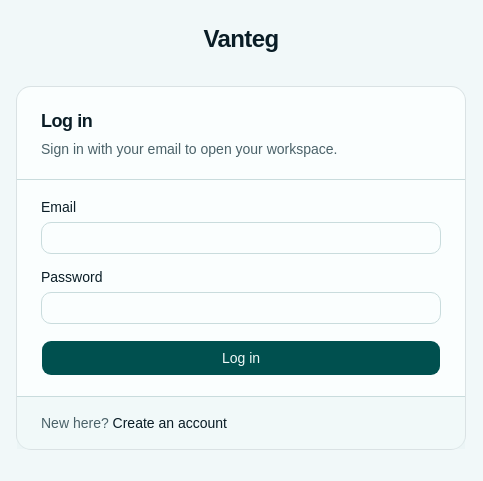
LoginPage › validates basic email shape
Type "nope" into the field labelled "Email".
click(241, 238); type("nope")  # box 41,222 -> 441,254
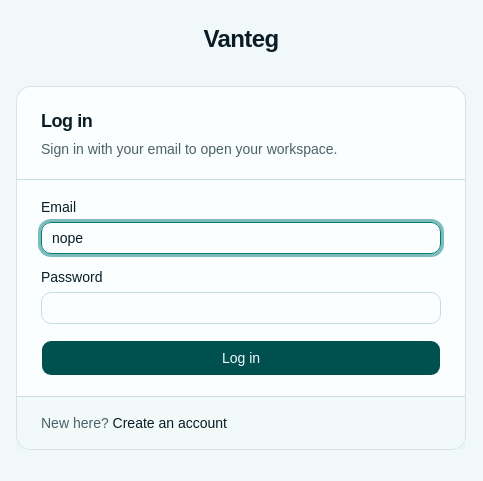
Type "secret" into the field labelled "Password".
click(241, 308); type("secret")  # box 41,292 -> 441,324
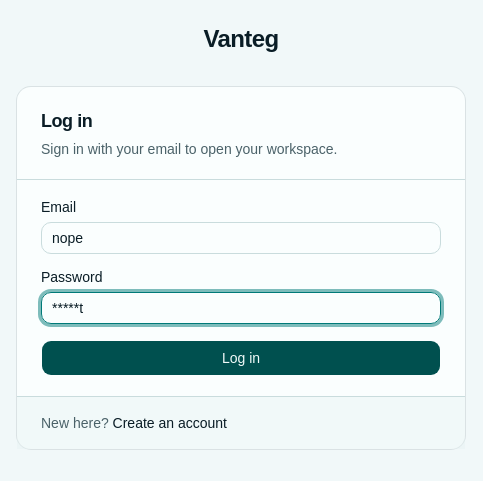
Click the button "Log in".
click(241, 358)  # box 41,340 -> 441,376
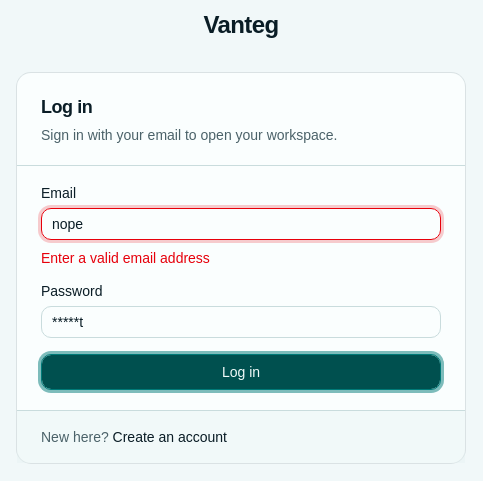
Check: the text "Enter a valid email address" is shown, box 41,250 -> 210,266
